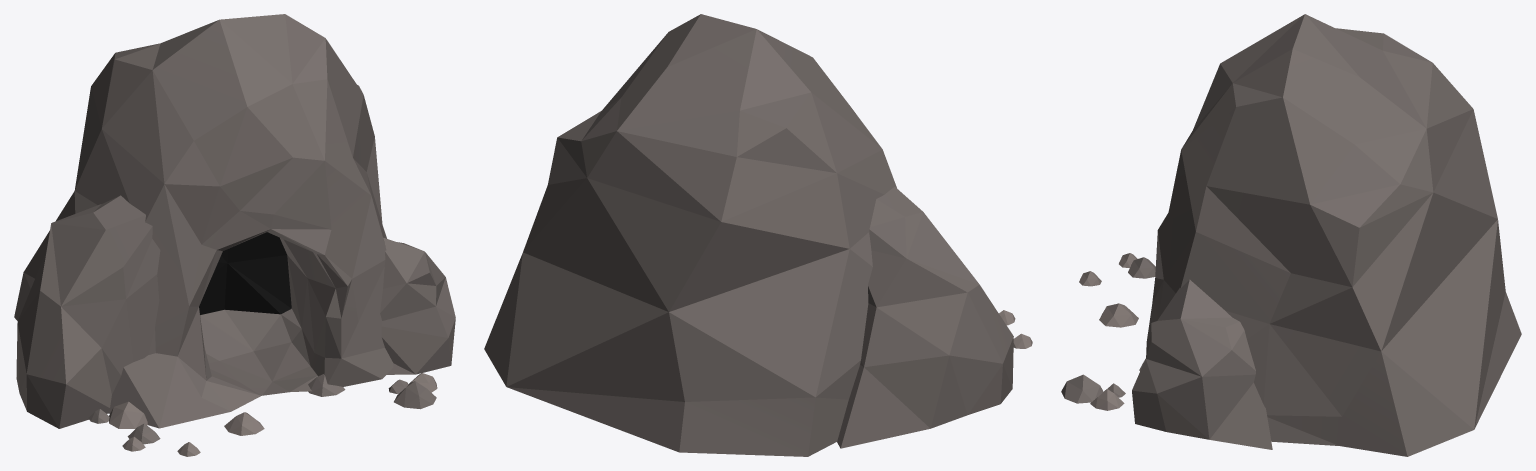
File: cave.fbx
3 views of the same model, side by side, from view 1: azimuth 30°, elevation 25°; view 2: azimuth 150°, elevation 25°; view 3: azimuth 270°, elevation 25° (orthographic). The views are drawn at different scales.
Parts seen in each view (by area): view 1: cave; view 2: cave; view 3: cave.
Boxes of the visible parts, x1,y1,x2,y2 form: cave: [14, 14, 455, 456]; cave: [484, 14, 1032, 456]; cave: [1061, 14, 1521, 456].
Size of the model in its own units: 2.53 by 1.91 by 2.28.
